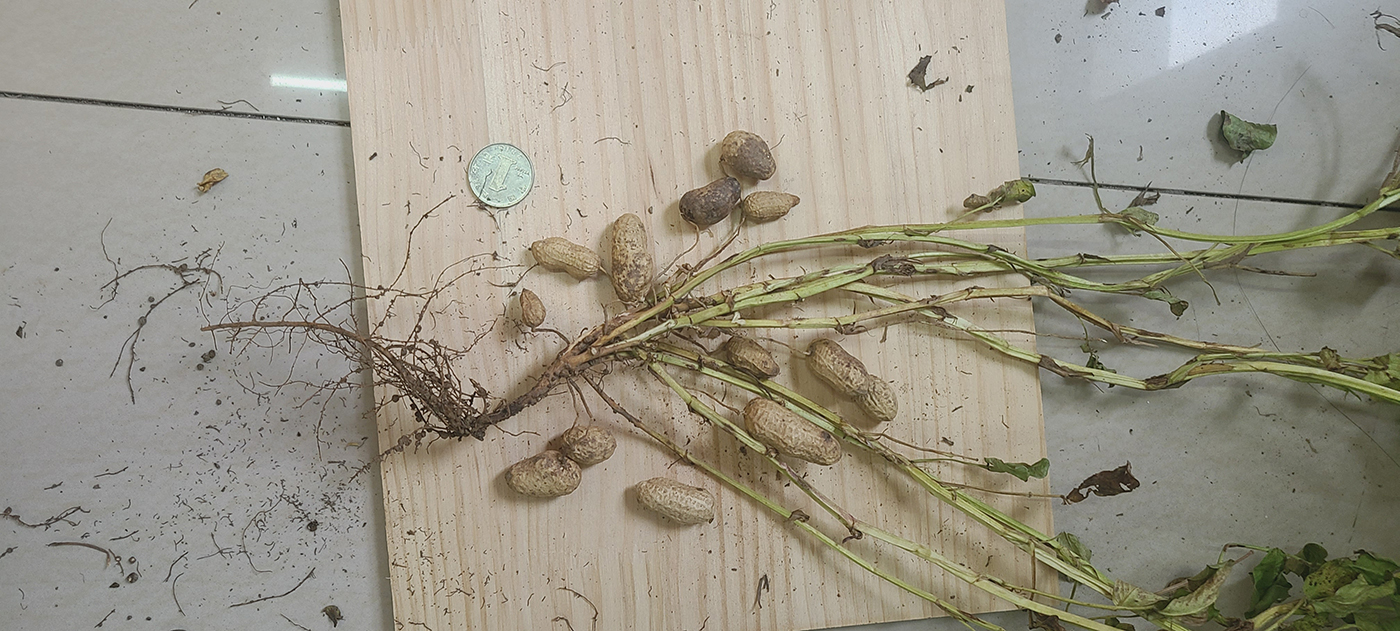h: (807, 339, 899, 422), (745, 399, 842, 466), (611, 212, 654, 302), (637, 479, 716, 527), (506, 452, 582, 498), (532, 238, 604, 282), (725, 336, 781, 379), (560, 426, 618, 466), (745, 192, 801, 220)
l: (681, 178, 740, 227), (722, 130, 776, 179)
